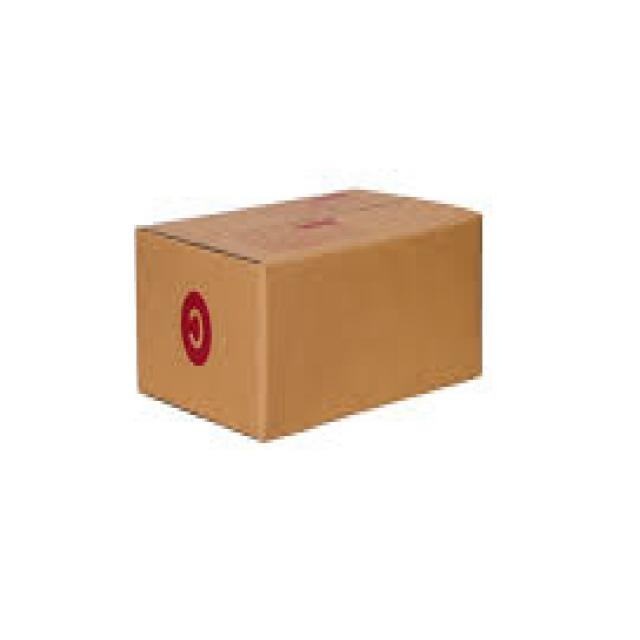box: (116, 154, 500, 449)
